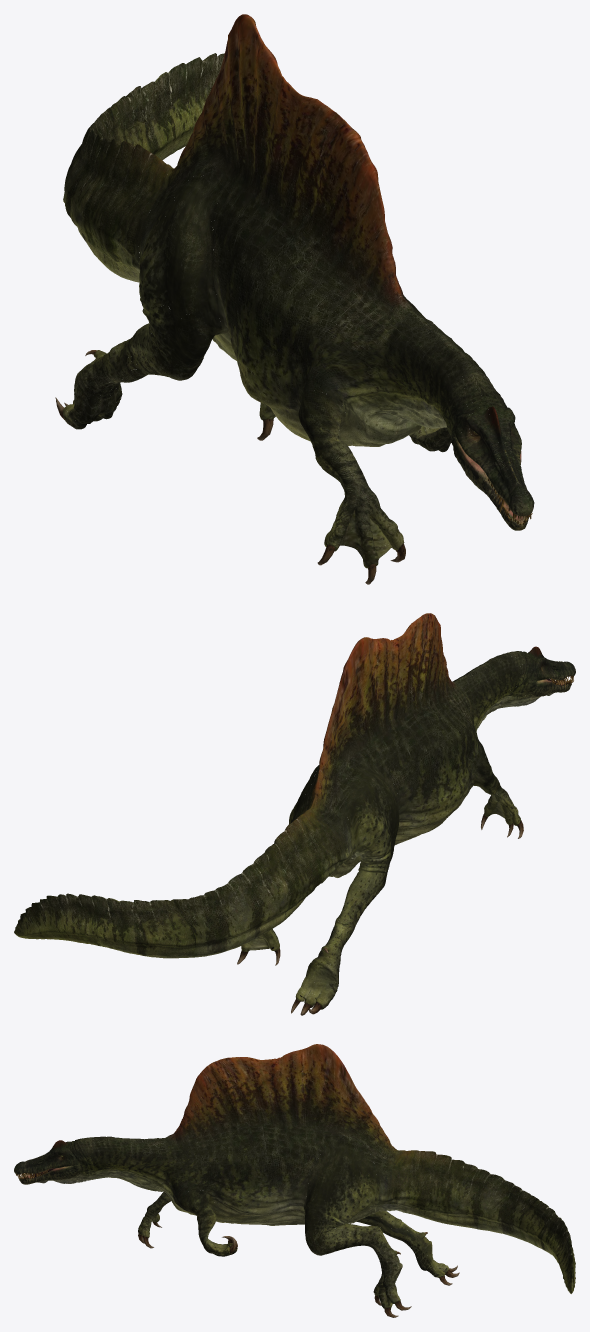
The picture shows the model from 3 angles, top to bottom: view 1: azimuth 30°, elevation 25°; view 2: azimuth 150°, elevation 25°; view 3: azimuth 270°, elevation 25°; orthographic projection. The views are drawn at different scales.
Parts seen in each view (by area): view 1: spinoA_polySurface1_body_0, spinoA_polySurface1_legs_0 (×2), spinoA_polySurface1_tails_0, spinoA_polySurface1_head_0 (×2), bits1_bits_0; view 2: spinoA_polySurface1_body_0, spinoA_polySurface1_tails_0, spinoA_polySurface1_legs_0 (×2), spinoA_polySurface1_head_0 (×2), bits1_bits_0; view 3: spinoA_polySurface1_body_0, spinoA_polySurface1_legs_0 (×2), spinoA_polySurface1_tails_0, spinoA_polySurface1_head_0, bits1_bits_0.
Boxes of the visible parts, x1,y1,x2,y2 form: spinoA_polySurface1_body_0: [138, 14, 489, 446]; spinoA_polySurface1_legs_0 (×2): [63, 174, 452, 568]; spinoA_polySurface1_tails_0: [63, 53, 224, 282]; spinoA_polySurface1_head_0 (×2): [441, 370, 534, 530]; bits1_bits_0: [55, 350, 532, 584]; spinoA_polySurface1_body_0: [290, 613, 515, 877]; spinoA_polySurface1_tails_0: [14, 809, 345, 958]; spinoA_polySurface1_legs_0 (×2): [241, 754, 520, 1009]; spinoA_polySurface1_head_0 (×2): [497, 646, 575, 708]; bits1_bits_0: [237, 675, 573, 1015]; spinoA_polySurface1_body_0: [93, 1044, 399, 1225]; spinoA_polySurface1_legs_0 (×2): [138, 1139, 448, 1308]; spinoA_polySurface1_tails_0: [383, 1150, 575, 1293]; spinoA_polySurface1_head_0: [14, 1137, 108, 1184]; bits1_bits_0: [16, 1168, 459, 1317].
Bounding box in the file's own units: 3.37 × 4.07 × 8.44.
Materials: 6 (6 with a texture image).
